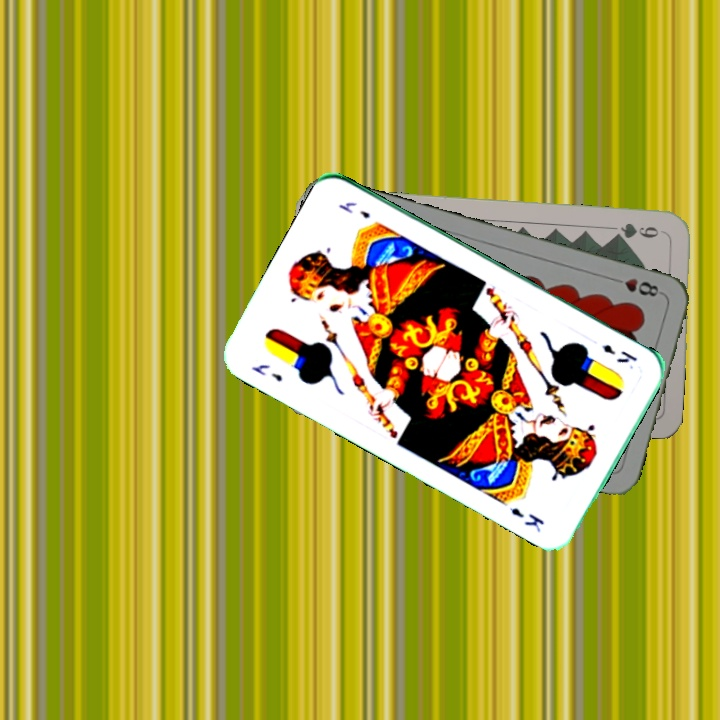EK: (597, 340, 639, 366), (247, 360, 285, 385)
G9: (609, 219, 668, 241)
H8: (607, 273, 665, 299)
